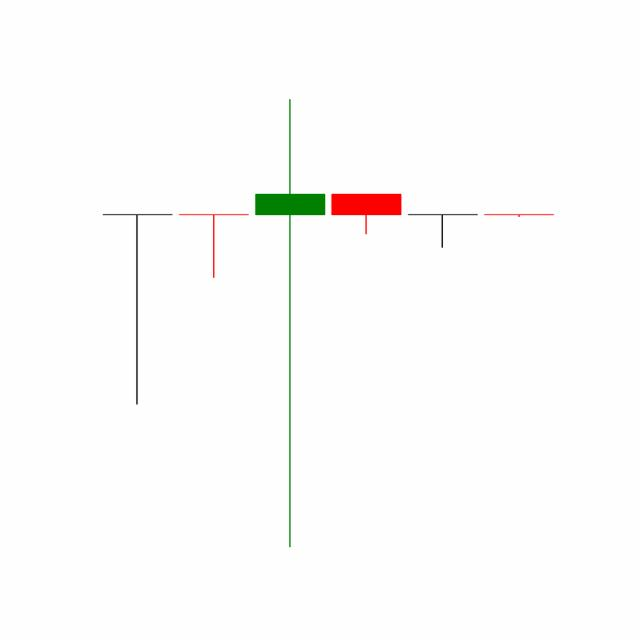Hammer: (403, 213, 481, 249)
